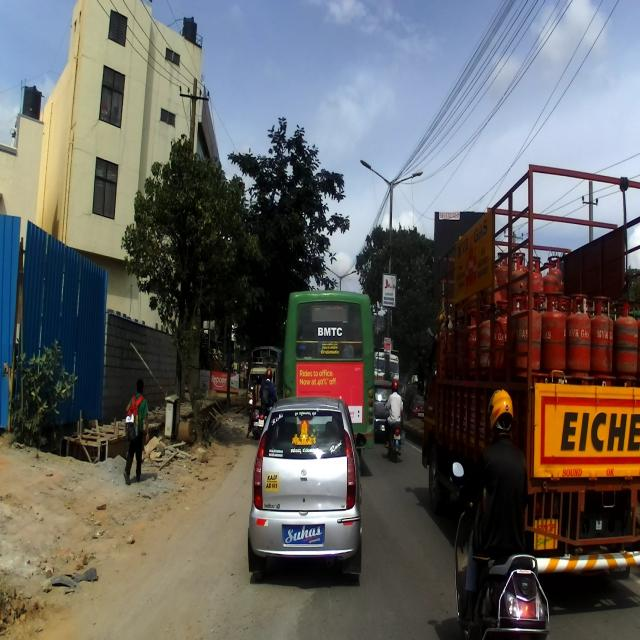bus: (277, 290, 374, 454)
car: (246, 394, 366, 582)
scooter: (448, 454, 552, 639)
truck: (418, 160, 639, 574)
